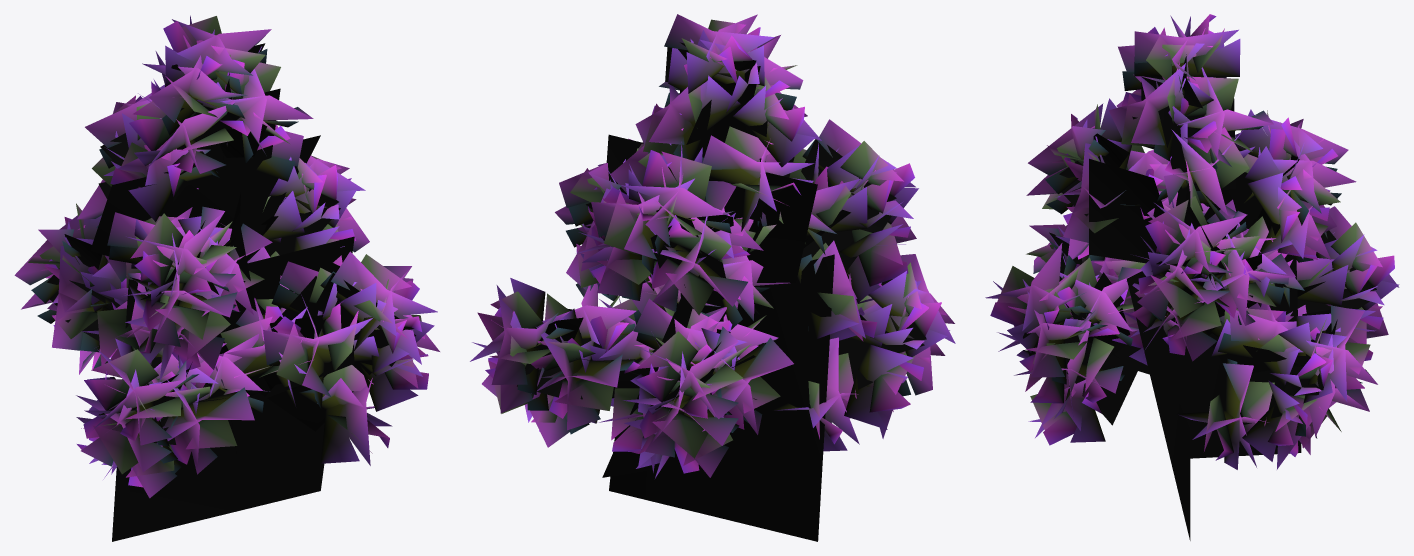
File: holm_oak_6.dae
3 renders of one model, left to right at view 1: azimuth 30°, elevation 25°; view 2: azimuth 150°, elevation 25°; view 3: azimuth 270°, elevation 25°, orthographic. The views are drawn at different scales.
Visible parts, largest first — view 1: Plane_2901; view 2: Plane_2901; view 3: Plane_2901.
Boxes of the visible parts, x1,y1,x2,y2 form: Plane_2901: [14, 15, 439, 541]; Plane_2901: [470, 14, 955, 541]; Plane_2901: [985, 14, 1399, 540].
Bounding box in the file's own units: 7.53 × 8.14 × 10.08.
